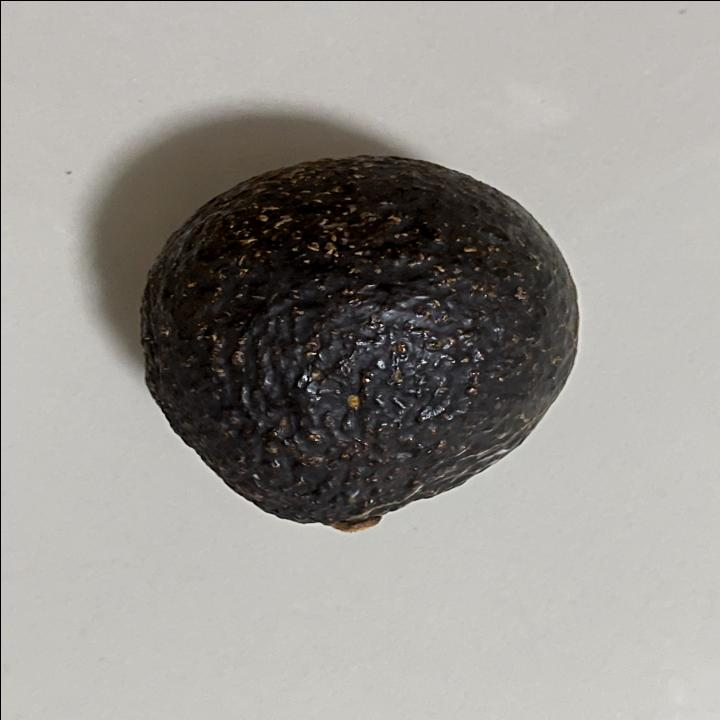Level3: (128, 147, 592, 543)
